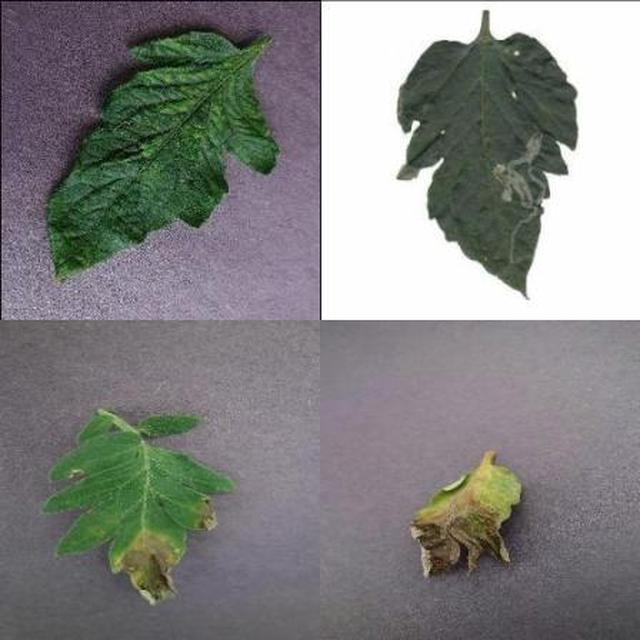Mosaic Virus Leaf: (158, 172, 640, 640)
